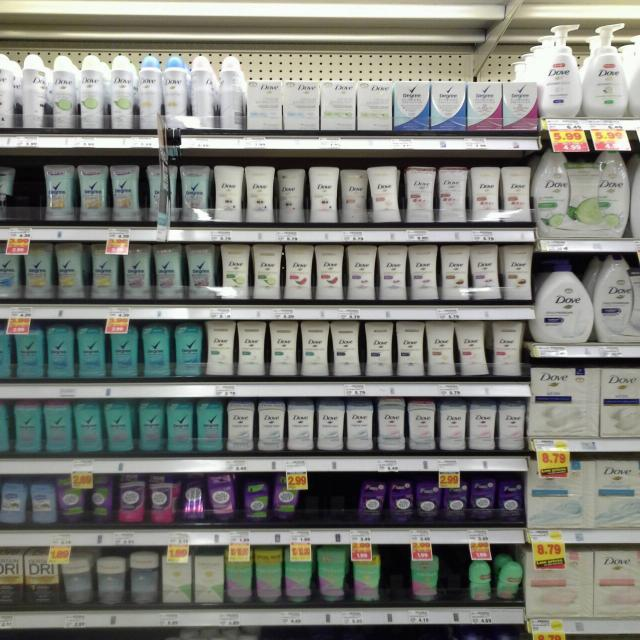void: (311, 472, 355, 519)
